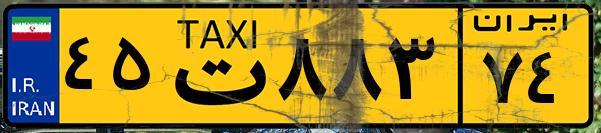3: (385, 28, 445, 110)
4: (57, 26, 110, 100), (525, 38, 570, 115)
5: (110, 28, 158, 98)
7: (475, 38, 525, 113)
8: (270, 28, 330, 110), (330, 28, 385, 110)
ت: (158, 12, 270, 120)
